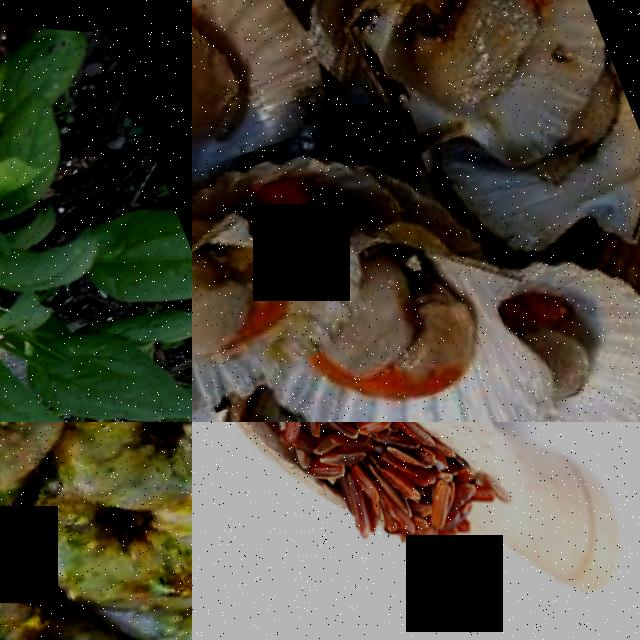red rice: (193, 422, 467, 591)
sea scallops: (396, 0, 559, 123), (192, 0, 245, 160), (192, 246, 258, 364)
shrimp: (23, 445, 192, 640), (21, 422, 192, 534), (0, 422, 78, 550)
spinach: (90, 185, 192, 307), (0, 89, 83, 216)
